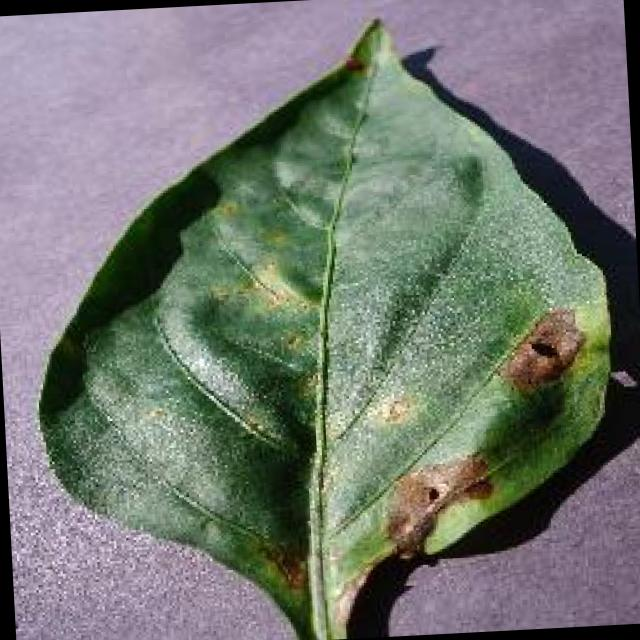Chilli_Bacterial_Spot: (14, 2, 631, 640), (362, 296, 608, 565), (374, 448, 500, 564), (497, 302, 589, 401), (254, 536, 312, 596), (374, 390, 418, 432), (458, 474, 498, 506), (419, 479, 448, 510)
